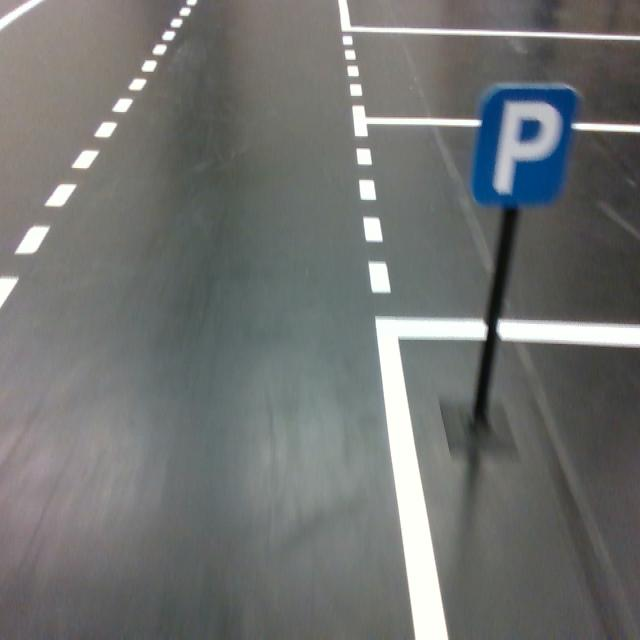parking-sign: (469, 82, 579, 209)
